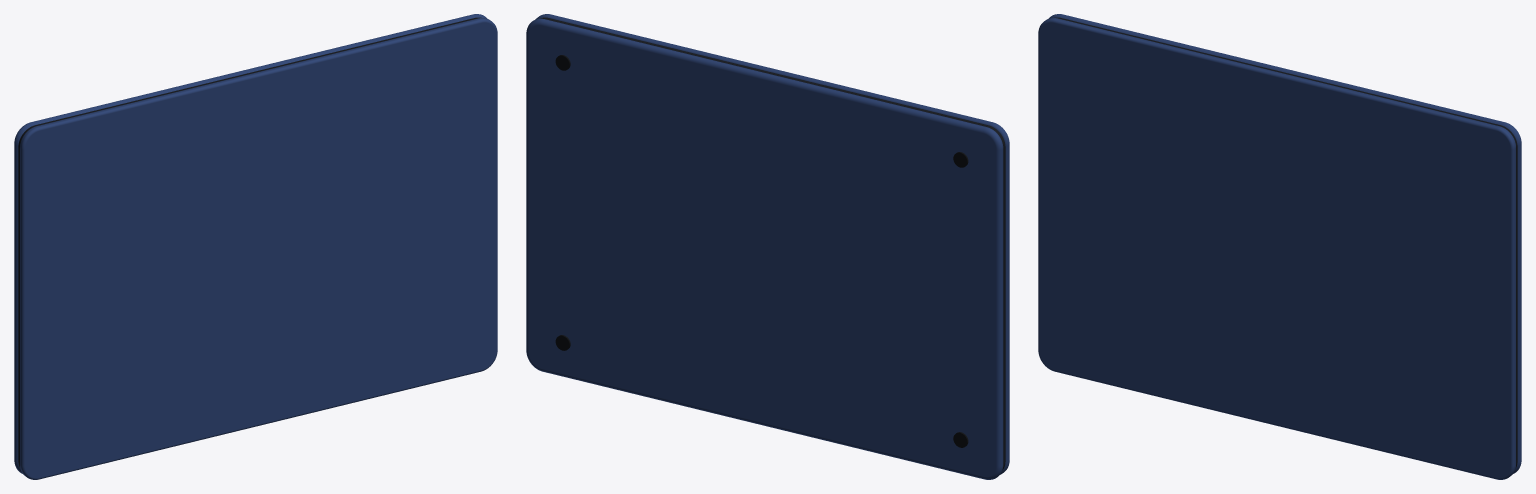
File: laptop.glb
The picture shows the model from 3 angles, left to right: view 1: azimuth 30°, elevation 25°; view 2: azimuth 150°, elevation 25°; view 3: azimuth 330°, elevation 25°; orthographic projection.
Visible parts, largest first — view 1: lid, base, seam; view 2: base, lid, seam; view 3: lid, base, seam.
Part boxes in pixels (x1,y1,x2,y2): lid: (20,18,497,479); base: (14,14,487,473); seam: (18,17,481,467); base: (526,18,1003,479); lid: (535,14,1009,474); seam: (541,17,1005,469); lid: (1038,18,1515,479); base: (1048,14,1521,473); seam: (1054,17,1517,467).
Bounding box in the file's own units: 0.3041 × 0.215 × 0.0124.
